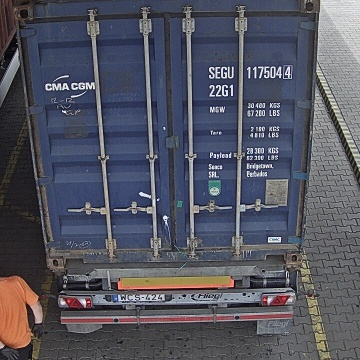serial_id: (209, 65, 292, 78)
